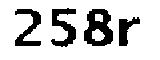2: (12, 6, 44, 51)
5: (46, 6, 80, 47)
8: (83, 7, 116, 47)
r: (119, 16, 144, 50)
